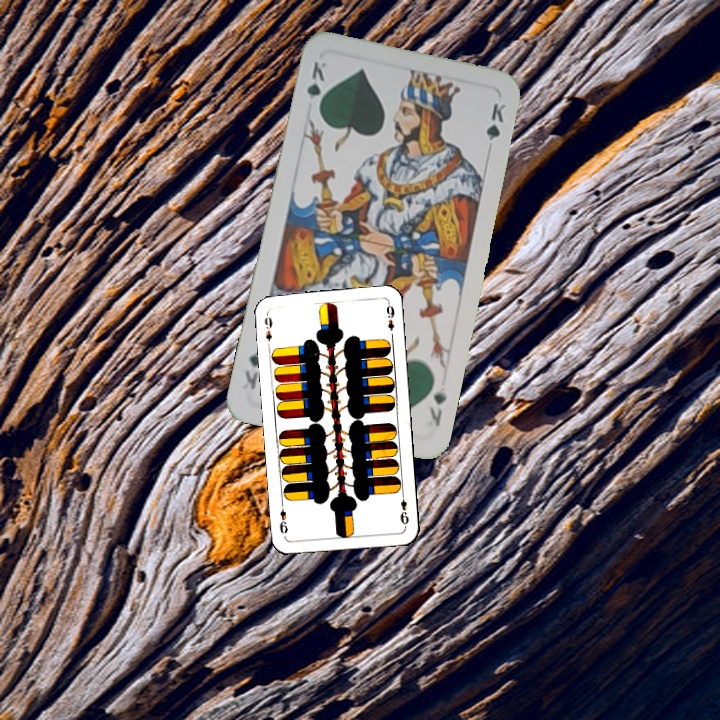E9: (260, 309, 275, 350), (396, 488, 411, 527)
GK: (303, 57, 329, 115), (425, 382, 449, 430)
